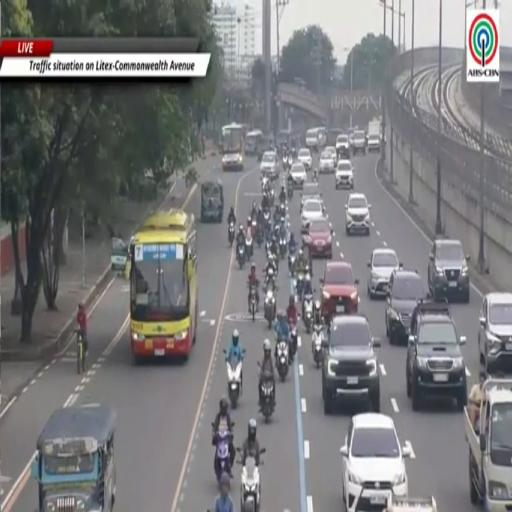bus: (130, 210, 198, 364), (222, 123, 244, 171)
car: (340, 413, 411, 511), (406, 301, 467, 410), (322, 315, 380, 413), (385, 268, 427, 344), (428, 238, 470, 302), (478, 293, 511, 374), (321, 261, 359, 323), (367, 248, 400, 298), (303, 219, 332, 259), (345, 192, 371, 235), (201, 181, 223, 222), (301, 199, 325, 233), (301, 182, 323, 210), (335, 159, 353, 189), (260, 152, 278, 180), (290, 163, 306, 188), (319, 151, 334, 173), (298, 148, 312, 171), (352, 131, 366, 154), (336, 135, 350, 157), (324, 147, 337, 168), (306, 128, 318, 150), (367, 135, 381, 152), (349, 130, 353, 151)
jeepney: (32, 405, 116, 511)
motorcycle: (240, 455, 260, 511), (214, 430, 232, 482), (259, 375, 275, 423), (227, 358, 242, 409), (276, 341, 289, 381), (312, 325, 323, 367), (264, 290, 275, 329), (303, 294, 313, 333), (289, 320, 297, 362), (249, 284, 256, 322), (296, 272, 304, 299), (255, 224, 264, 247), (237, 244, 245, 268), (246, 234, 253, 260), (289, 252, 296, 277), (228, 222, 235, 247), (280, 235, 287, 259), (273, 220, 280, 239), (265, 237, 272, 254), (252, 216, 257, 238), (287, 182, 293, 199), (279, 201, 285, 218), (282, 155, 288, 170), (264, 211, 270, 226), (270, 188, 275, 206), (313, 168, 318, 184), (288, 154, 293, 168)
truck: (465, 378, 511, 511), (384, 495, 437, 511), (367, 120, 381, 152), (367, 120, 381, 136)
